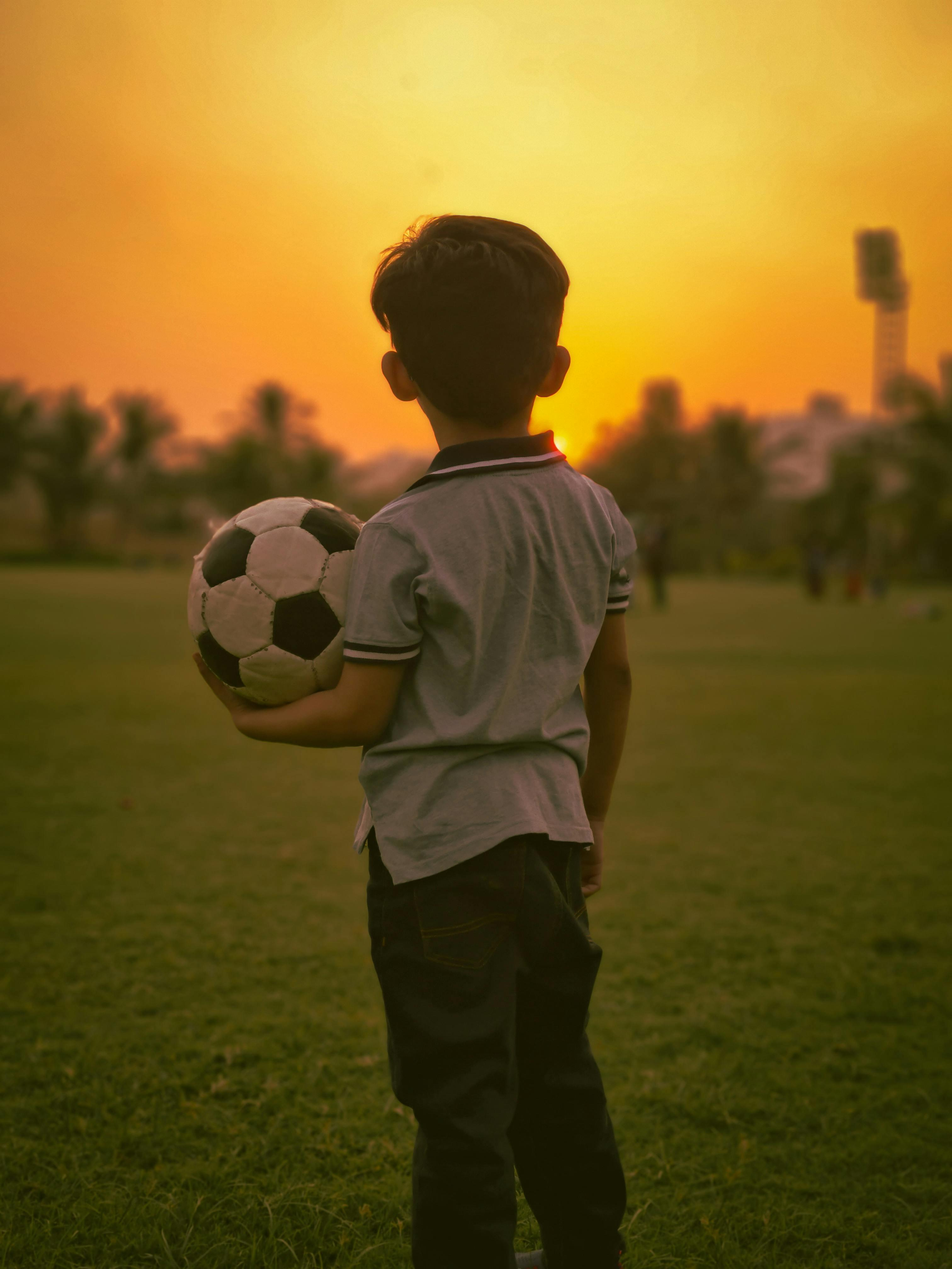Human: (224, 165, 752, 1269)
